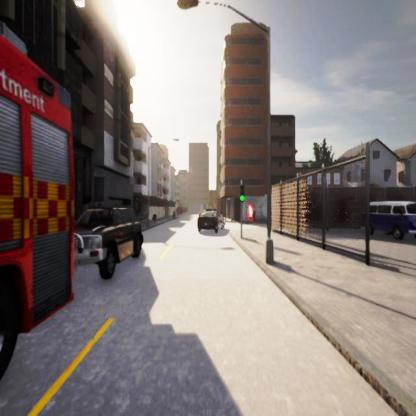vehicle: (1, 8, 83, 411), (74, 205, 144, 279), (368, 201, 416, 241), (197, 210, 223, 234)
